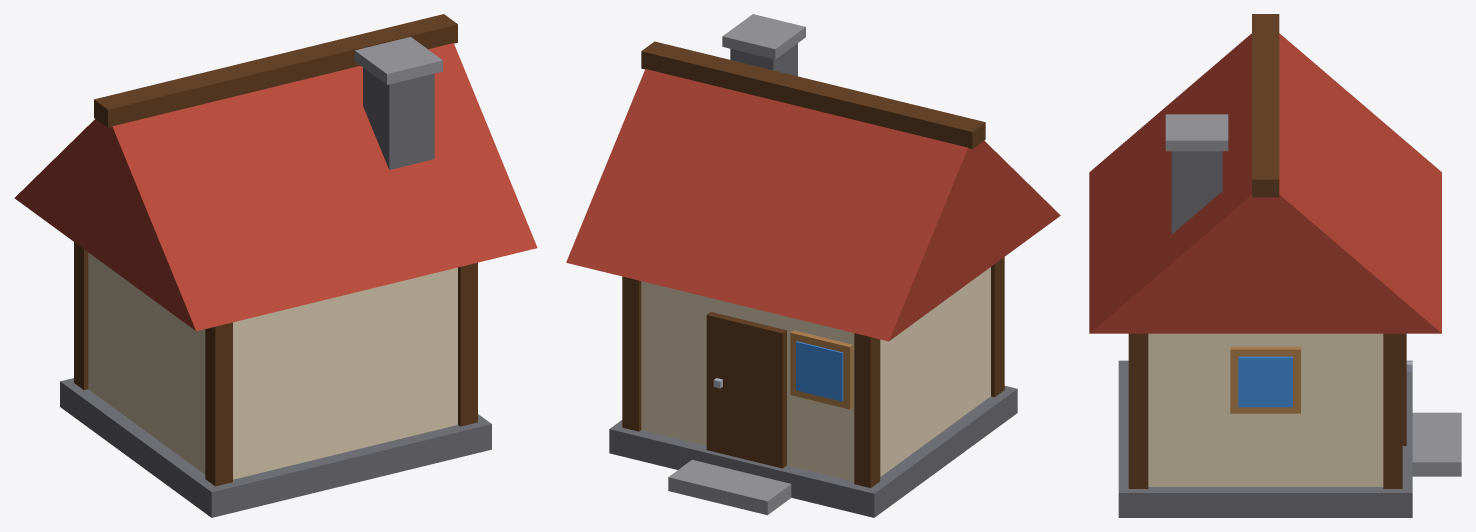
File: House.fbx
3 views of the same model, side by side, from view 1: azimuth 30°, elevation 25°; view 2: azimuth 150°, elevation 25°; view 3: azimuth 270°, elevation 25° (orthographic). The views are drawn at different scales.
Parts seen in each view (by area): view 1: House; view 2: House; view 3: House.
Boxes of the visible parts, x1,y1,x2,y2 form: House: (14, 14, 537, 517); House: (566, 14, 1060, 517); House: (1089, 14, 1461, 517).
Size of the model in its own units: 2 by 2.06 by 1.9.
